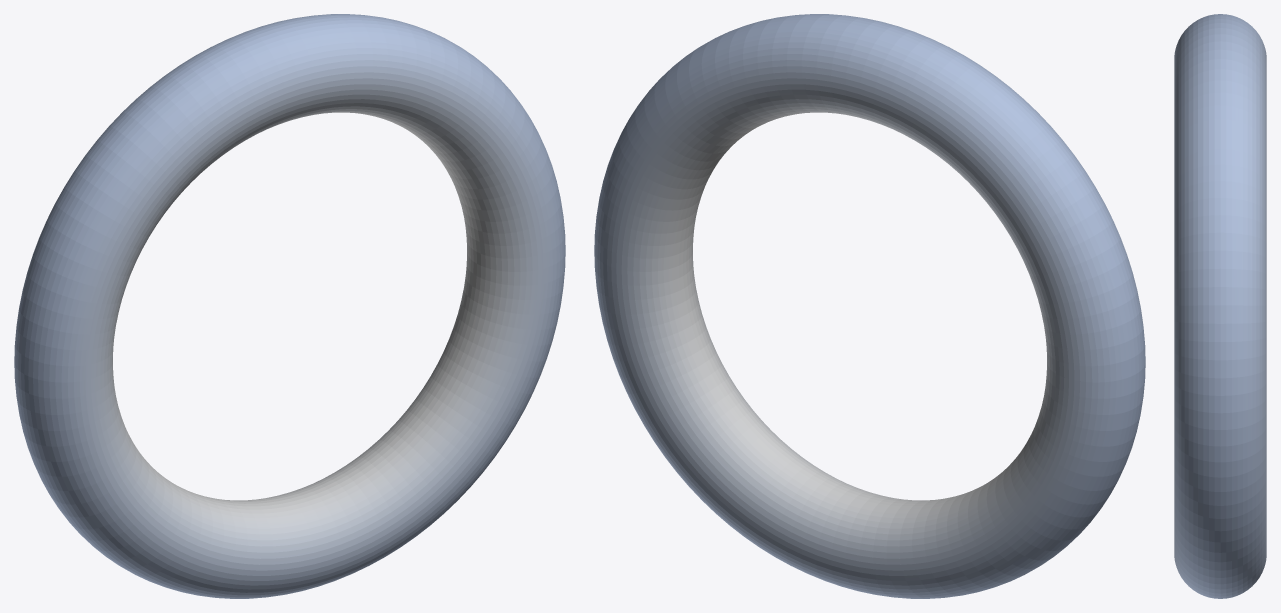
The picture shows the model from 3 angles, left to right: view 1: azimuth 30°, elevation 25°; view 2: azimuth 150°, elevation 25°; view 3: azimuth 270°, elevation 25°; orthographic projection. The views are drawn at different scales.
Parts seen in each view (by area): view 1: world; view 2: world; view 3: world.
Boxes of the visible parts, x1,y1,x2,y2 form: world: [14, 14, 565, 598]; world: [594, 14, 1145, 598]; world: [1174, 14, 1266, 598].
Bounding box in the file's own units: 27.73 × 27.73 × 4.39.
